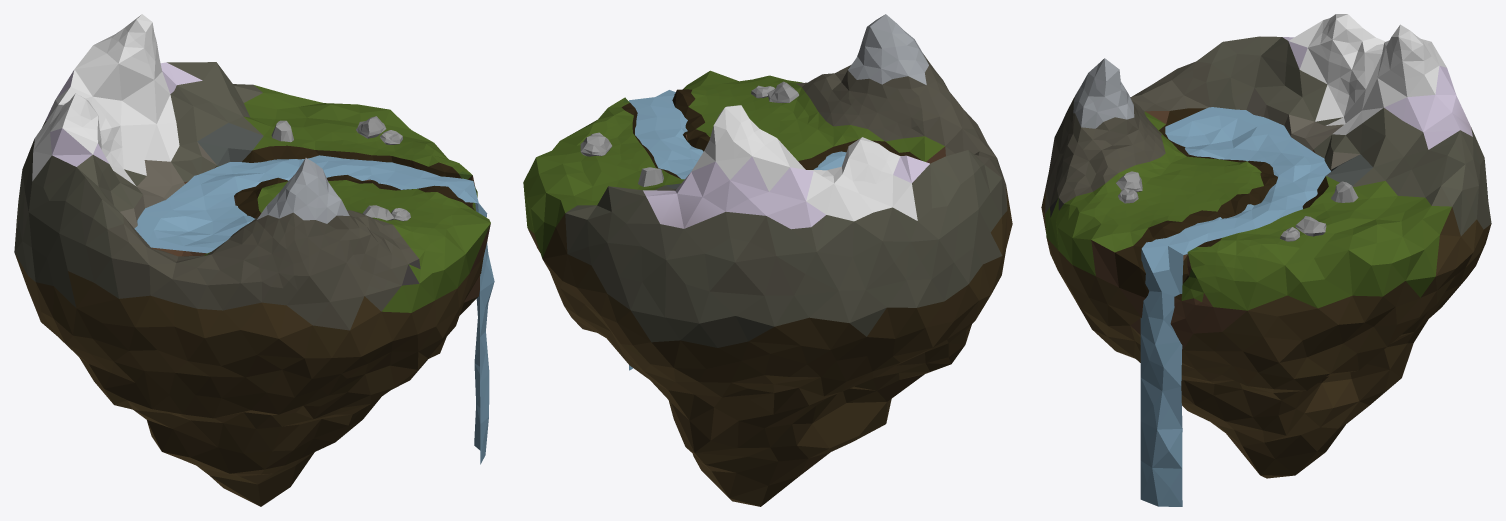
Rendered from maailma2.glb.
3 renders of one model, left to right at view 1: azimuth 30°, elevation 25°; view 2: azimuth 150°, elevation 25°; view 3: azimuth 270°, elevation 25°, orthographic. The views are drawn at different scales.
Visible parts, largest first — view 1: Icosphere; view 2: Icosphere; view 3: Icosphere.
Boxes of the visible parts, x1,y1,x2,y2 form: Icosphere: [14, 14, 494, 506]; Icosphere: [523, 14, 1012, 506]; Icosphere: [1041, 14, 1491, 506].
Bounding box in the file's own units: 48.79 × 51.36 × 48.87.
